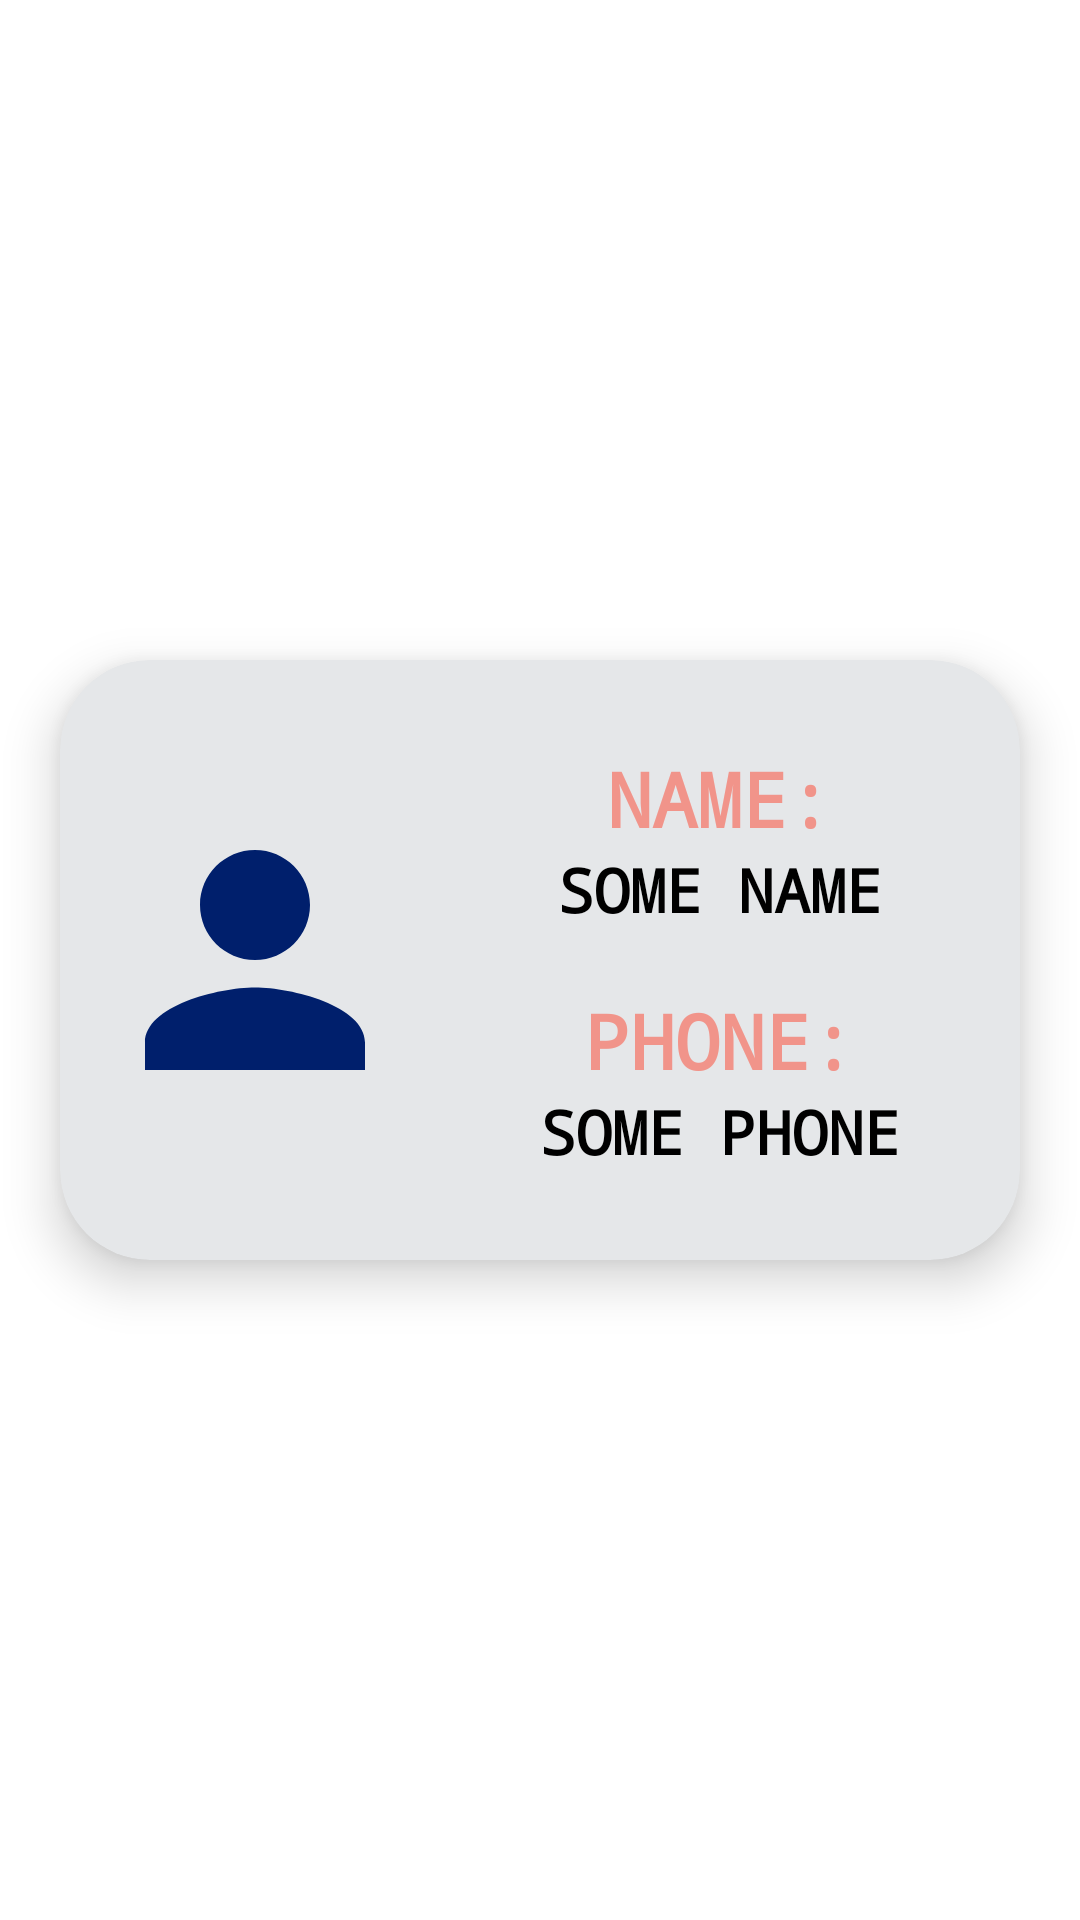

Screen size 1080 x 1920. Icon name, then its box in pixels as box(x1, y1, x2, y2):
person: box(145, 850, 365, 1070)
